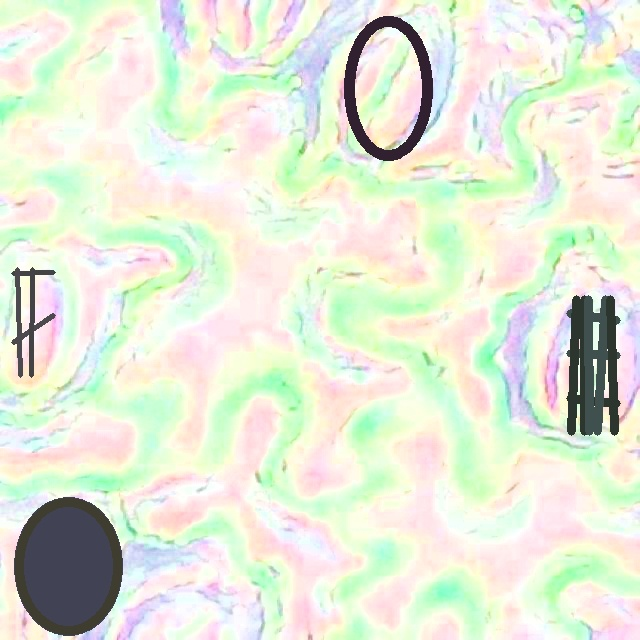close: (14, 497, 121, 635), (344, 15, 432, 161), (566, 295, 620, 435), (11, 267, 55, 377)
